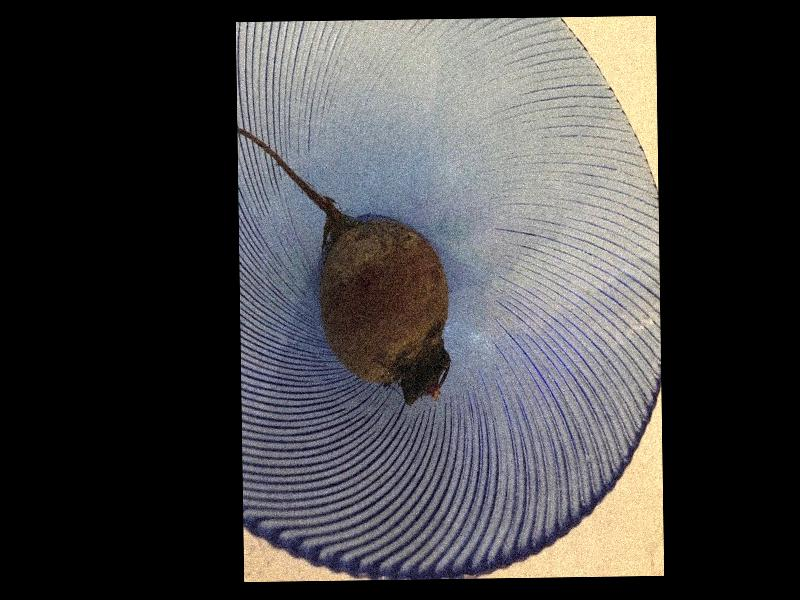Beet: (237, 126, 449, 406)
